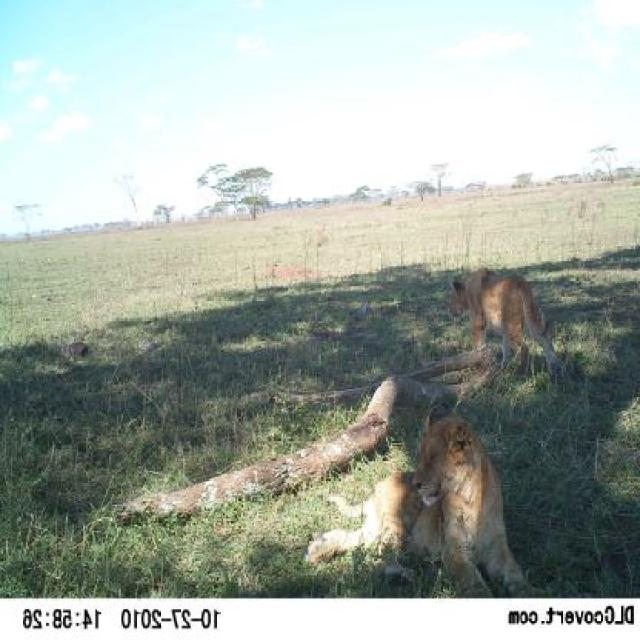Lion: (297, 412, 525, 586), (420, 244, 578, 402)
